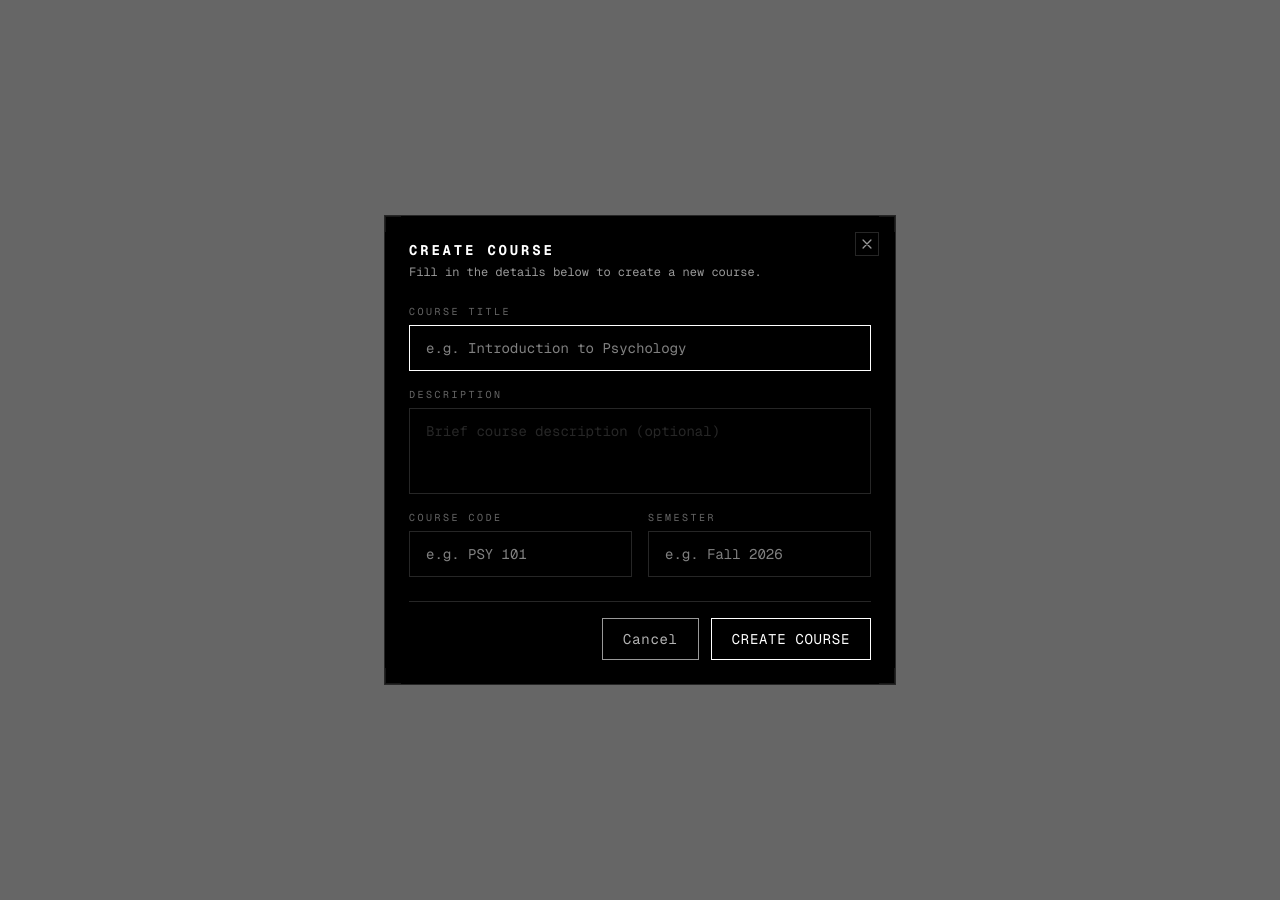
Test: CreateCourseModal › shows API error when course creation fails
This screenshot has width=1280, height=900.
Type "Psych 101" into the field labelled "Course Title".
click(640, 348); type("Psych 101")  # box 409,325 -> 871,371
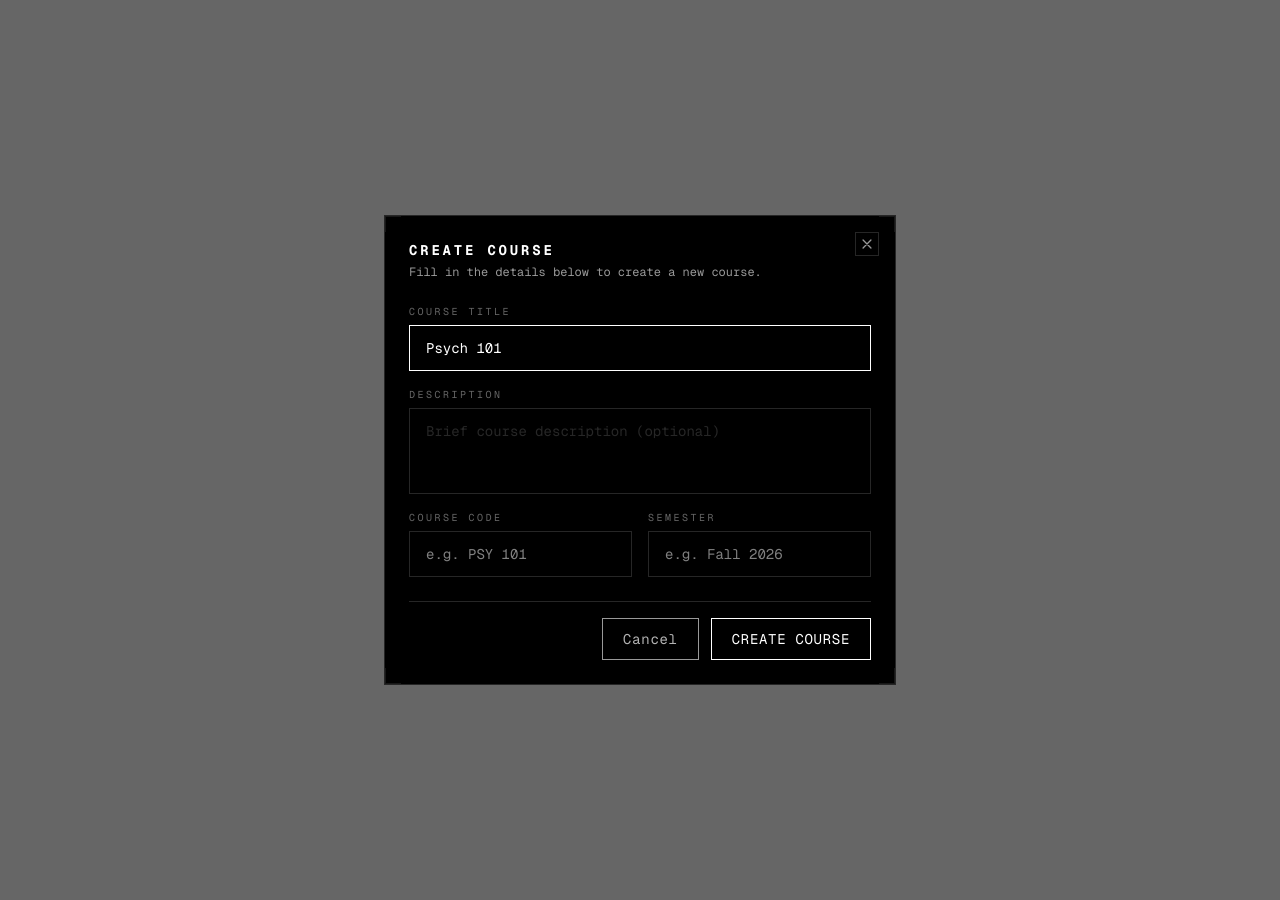
Type "PSY 101" into the field labelled "Course Code".
click(520, 554); type("PSY 101")  # box 409,531 -> 632,577
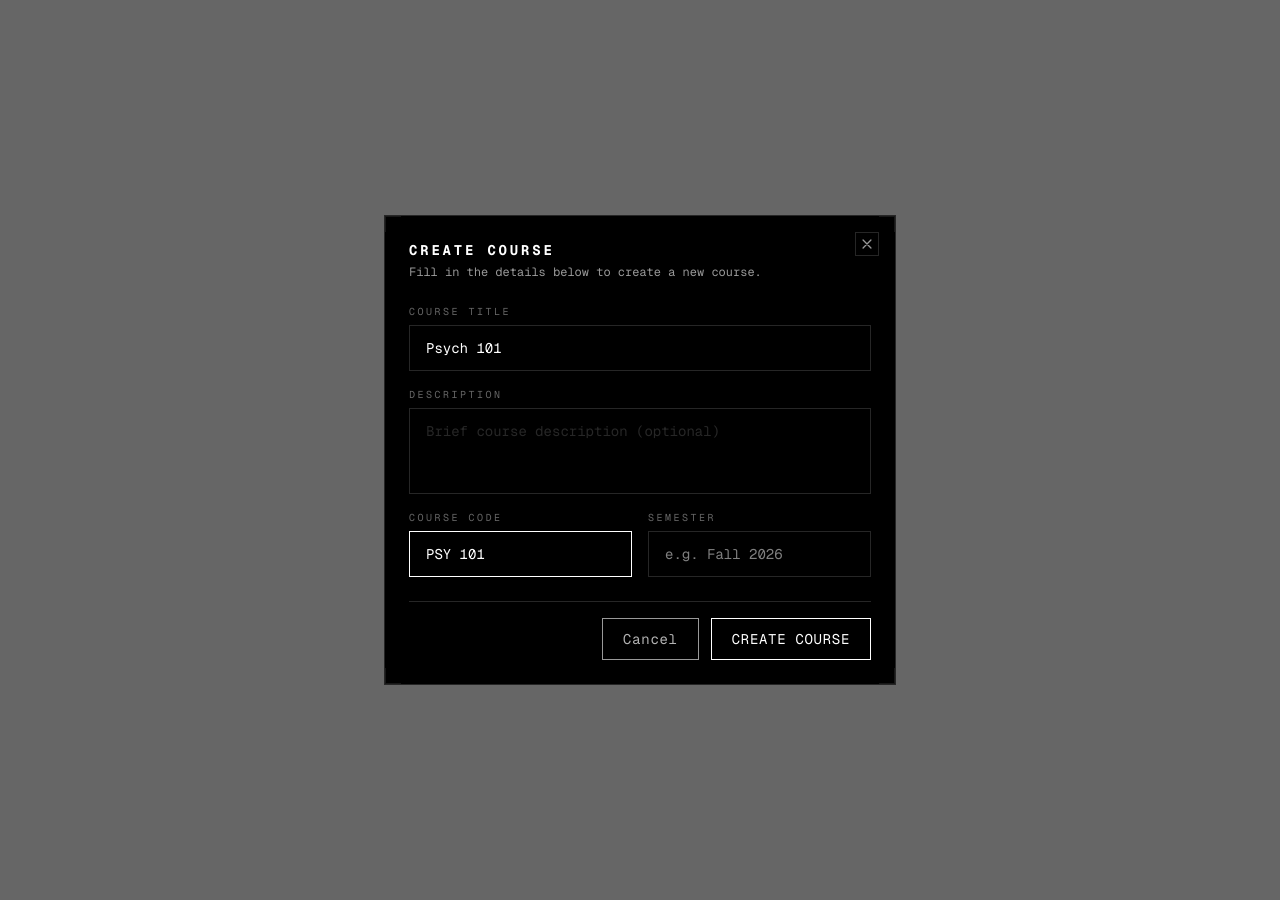
Type "Fall 2026" into the field labelled "Semester".
click(760, 554); type("Fall 2026")  # box 648,531 -> 871,577
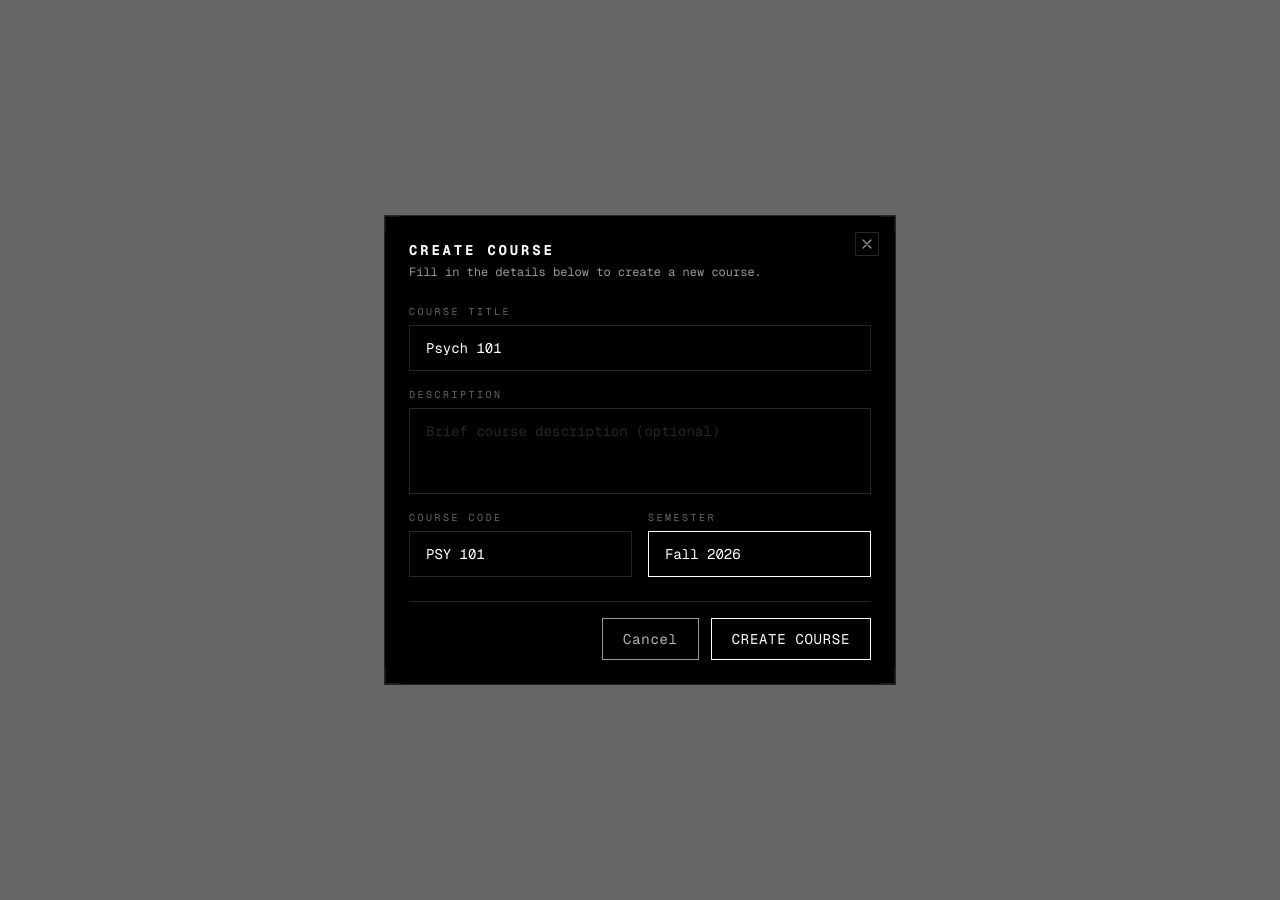
Click the button "CREATE COURSE".
click(791, 639)  # box 711,618 -> 871,660
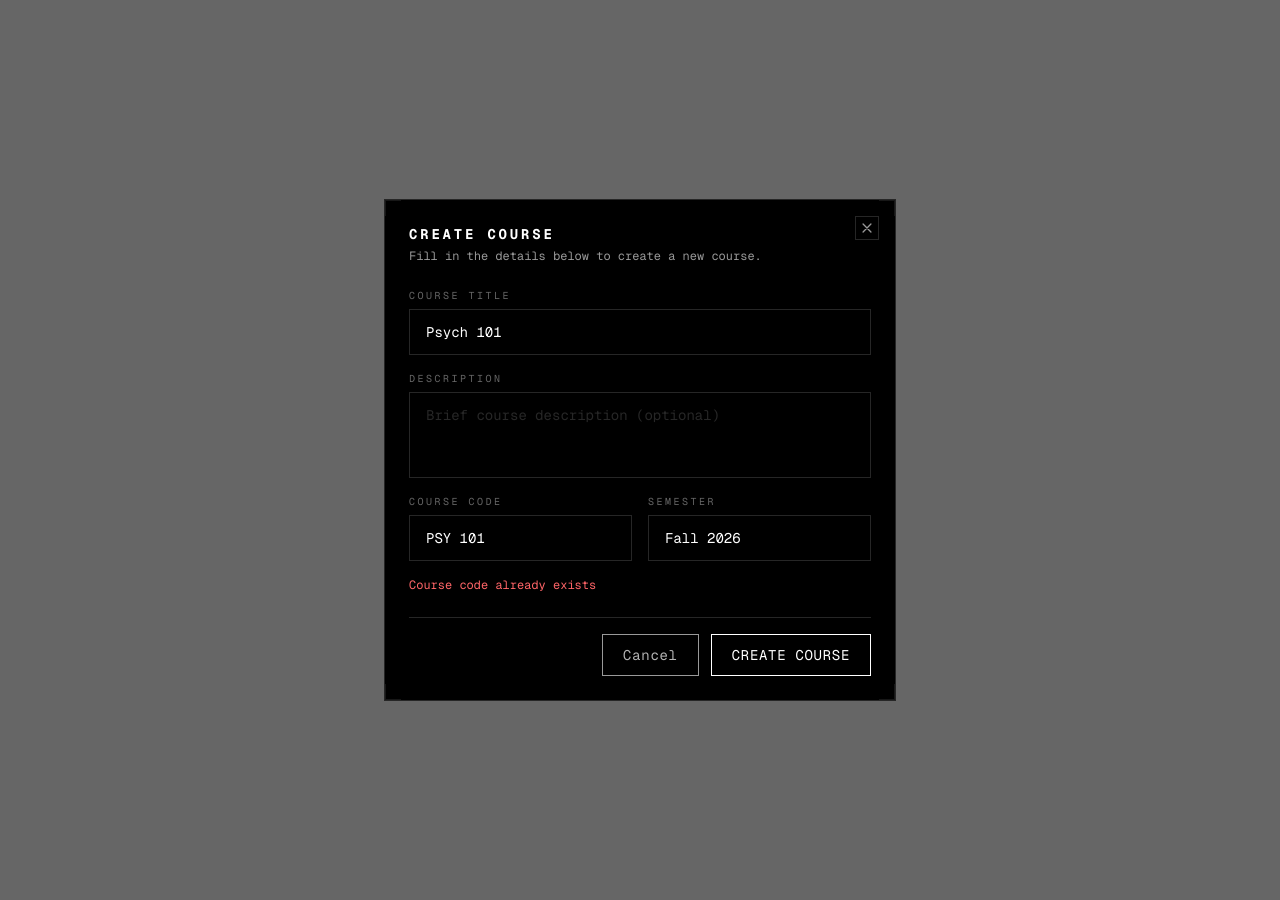
Expected: the text "Course code already exists" is shown, 409,577 -> 596,593
